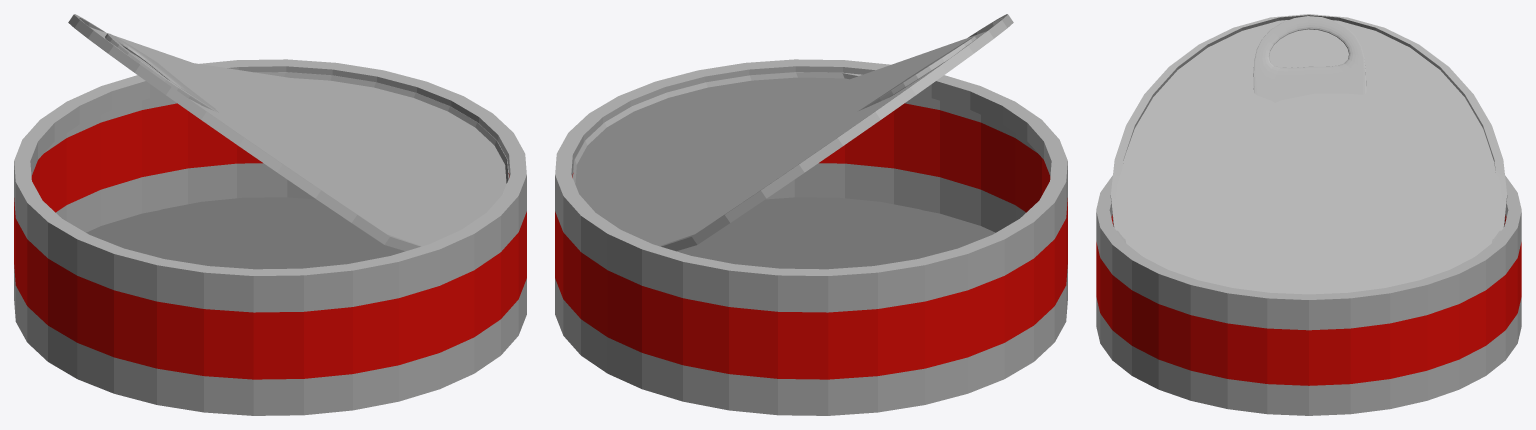
Rendered from tuna_can11.fbx.
The picture shows the model from 3 angles, left to right: view 1: azimuth 30°, elevation 25°; view 2: azimuth 150°, elevation 25°; view 3: azimuth 270°, elevation 25°; orthographic projection. The views are drawn at different scales.
Visible parts, largest first — view 1: Cube; view 2: Cube; view 3: Cube.
Boxes of the visible parts, box(x1,y1,x2,y2) form: Cube: box(14, 14, 526, 415); Cube: box(555, 14, 1067, 415); Cube: box(1096, 14, 1521, 415).
Bounding box in the file's own units: 6.04 × 3.9 × 6.04.
